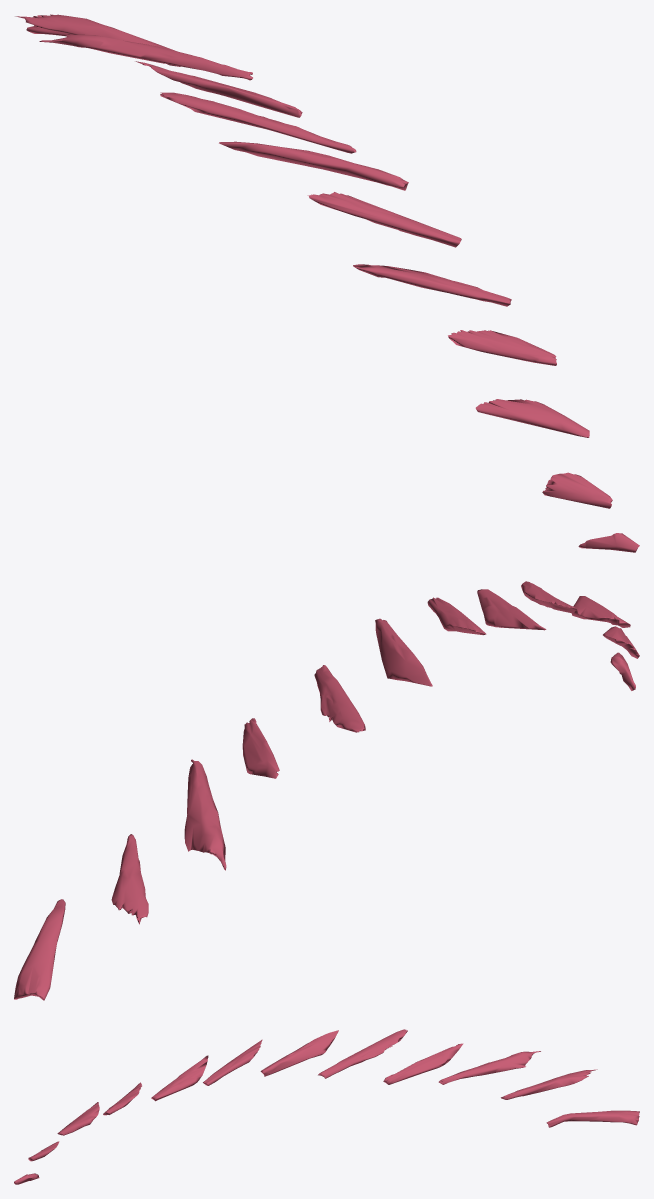
3 renders of one model, top to bottom at view 1: azimuth 30°, elevation 25°; view 2: azimuth 150°, elevation 25°; view 3: azimuth 270°, elevation 25°, orthographic. The views are drawn at different scales.
Parts seen in each view (by area): view 1: 右侧肋短提肌; view 2: 右侧肋短提肌; view 3: 右侧肋短提肌.
Part boxes in pixels (x1,y1,x2,y2): 右侧肋短提肌: [15, 14, 639, 552]; 右侧肋短提肌: [14, 581, 639, 1000]; 右侧肋短提肌: [14, 1029, 639, 1184].
Bounding box in the file's own units: 0.0747 × 0.1056 × 0.4761.
